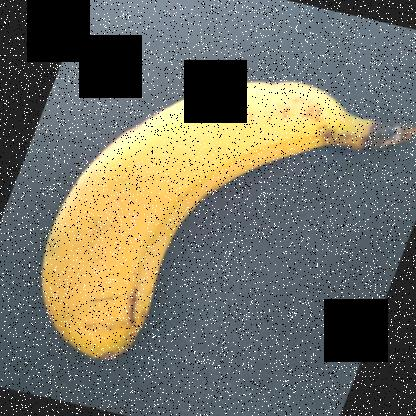freshripe: (0, 62, 352, 415)
